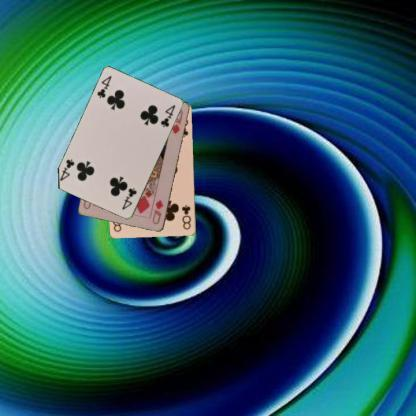4c: (94, 73, 112, 100), (120, 186, 138, 210)
8c: (180, 202, 192, 231)
Qd: (150, 196, 164, 226)
